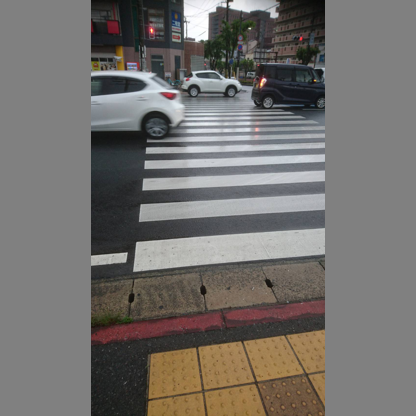brailleblock: (241, 333, 291, 416), (283, 330, 323, 416), (148, 354, 199, 416), (202, 340, 242, 416)
crosswalk: (146, 150, 323, 278), (194, 113, 308, 148)
signal: (147, 25, 155, 39)
